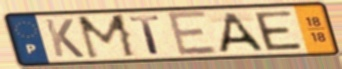A: (216, 11, 266, 54)
E: (165, 10, 221, 58), (251, 10, 306, 52)
K: (42, 18, 87, 59)
M: (74, 13, 140, 61)
T: (127, 14, 164, 56)
